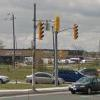Traffic light: (33, 17, 87, 46)
